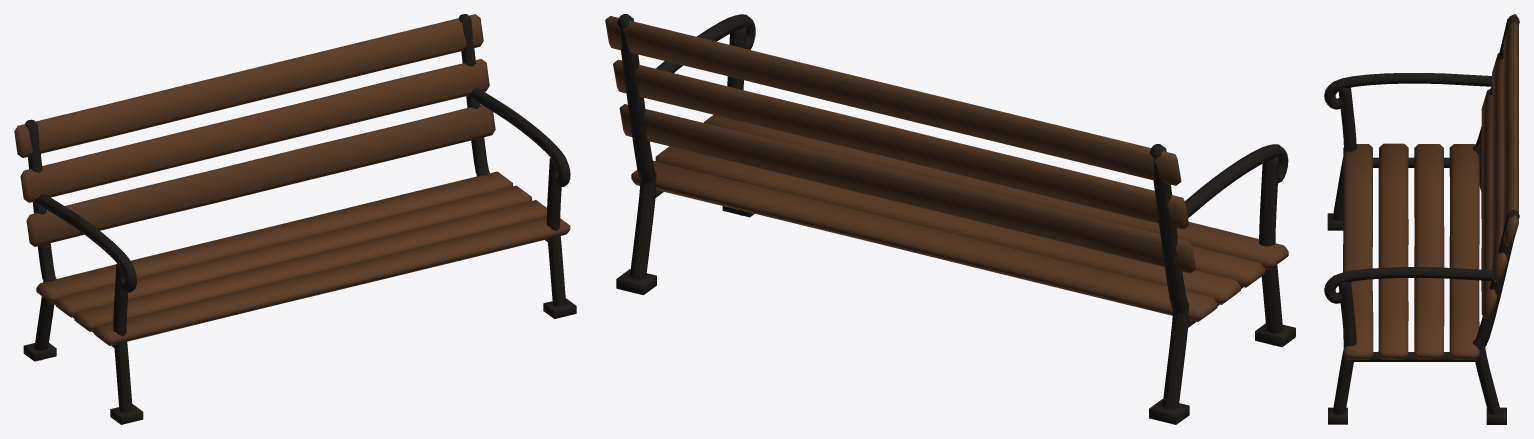
File: street_bench.glb
3 views of the same model, side by side, from view 1: azimuth 30°, elevation 25°; view 2: azimuth 150°, elevation 25°; view 3: azimuth 270°, elevation 25° (orthographic). The views are drawn at different scales.
Visible parts, largest first — view 1: Sammel Holz, Sammel Metall; view 2: Sammel Holz, Sammel Metall; view 3: Sammel Holz, Sammel Metall.
Part boxes in pixels (bbox=[...]): Sammel Holz: bbox=[14, 14, 570, 345]; Sammel Metall: bbox=[23, 14, 576, 424]; Sammel Holz: bbox=[605, 16, 1288, 321]; Sammel Metall: bbox=[616, 14, 1295, 424]; Sammel Holz: bbox=[1343, 14, 1519, 359]; Sammel Metall: bbox=[1324, 15, 1519, 424].
Size of what is drawn, in the model's own units: 1.46 by 0.6966 by 0.5789.
